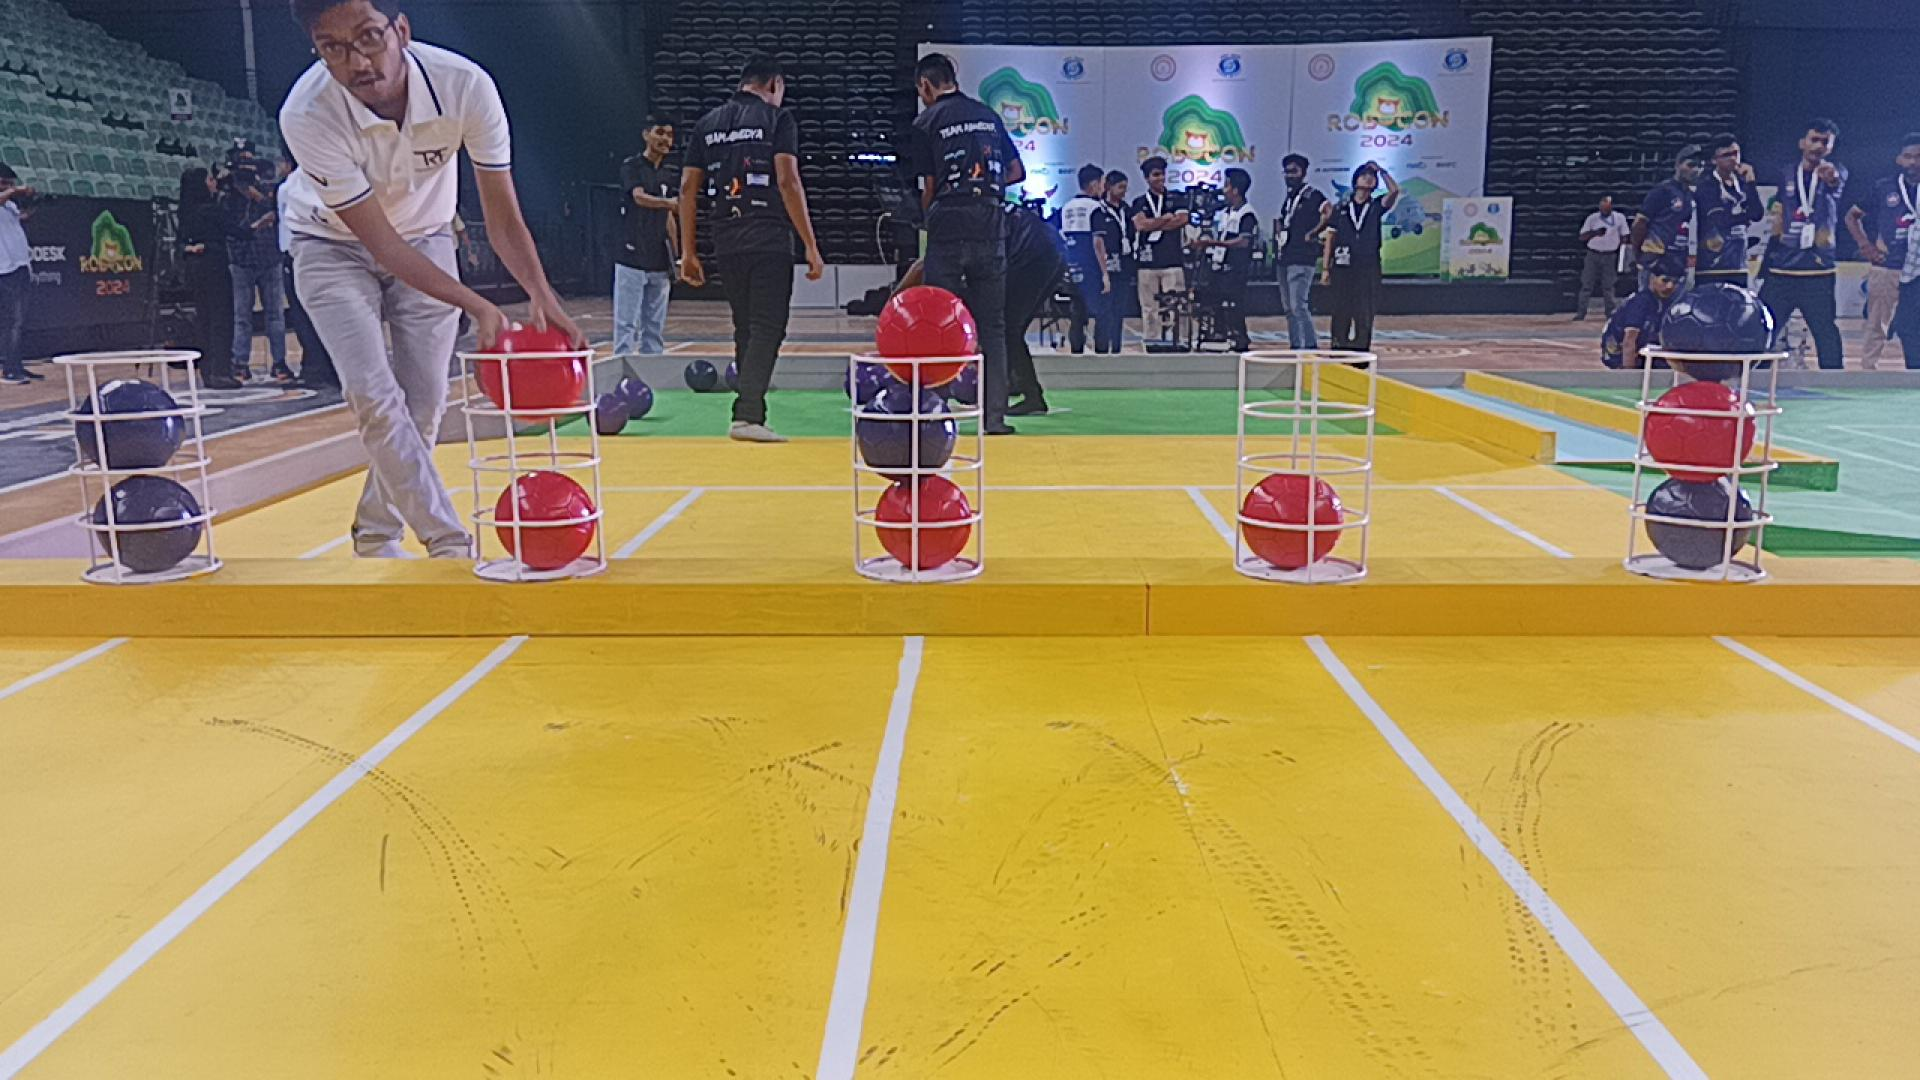dhoka: (1648, 476, 1758, 571), (92, 479, 202, 571), (78, 378, 187, 468), (1669, 285, 1771, 378), (856, 382, 956, 476)
laale: (472, 323, 588, 423), (1647, 380, 1755, 484), (1237, 469, 1342, 570), (496, 472, 597, 570), (876, 289, 973, 388), (873, 475, 971, 570)
